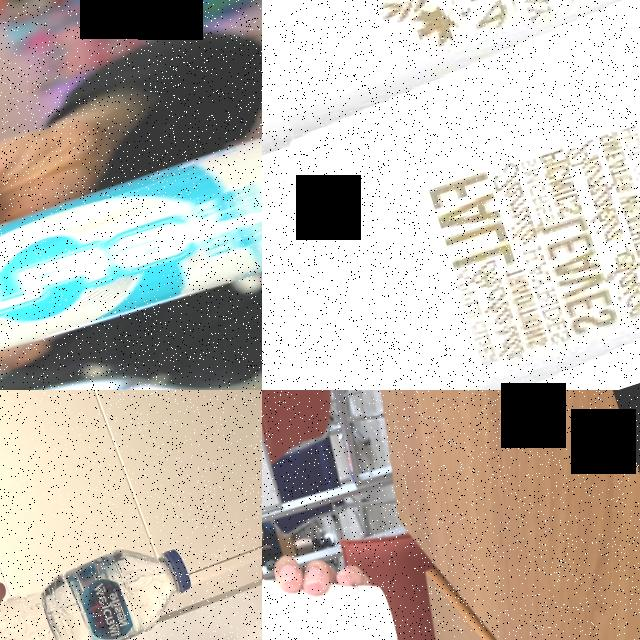bottle: (0, 529, 206, 640)
can: (0, 108, 262, 390)
cup: (262, 9, 640, 390), (262, 0, 640, 189), (262, 513, 422, 640)
